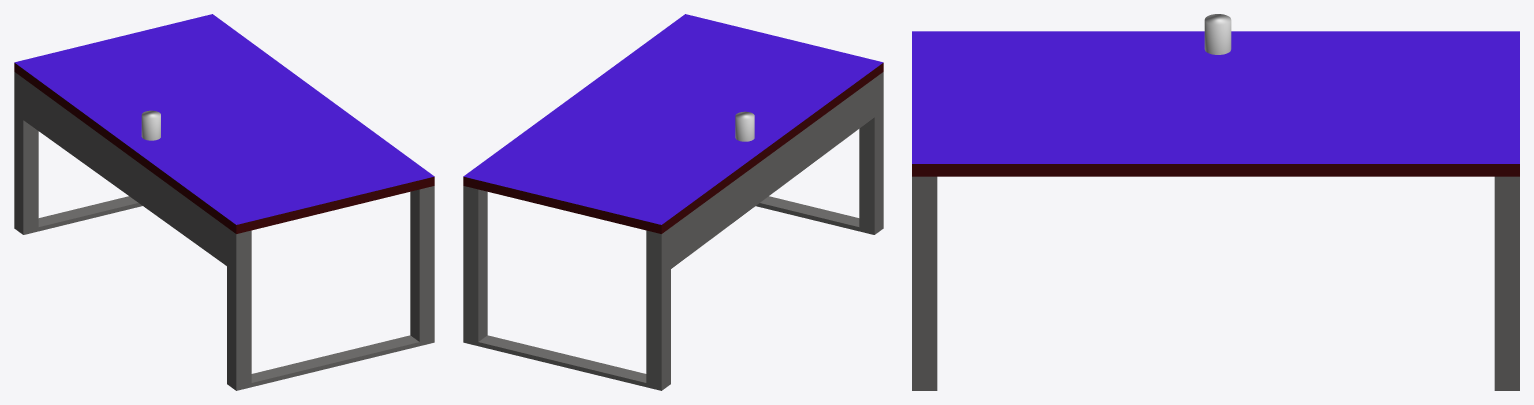
File: Mesa 1.fbx
3 views of the same model, side by side, from view 1: azimuth 30°, elevation 25°; view 2: azimuth 150°, elevation 25°; view 3: azimuth 270°, elevation 25° (orthographic). The views are drawn at different scales.
Parts seen in each view (by area): view 1: Cube, Cylinder; view 2: Cube, Cylinder; view 3: Cube, Cylinder.
Boxes of the visible parts, x1,y1,x2,y2 form: Cube: (14, 14, 434, 390); Cylinder: (141, 110, 160, 140); Cube: (463, 14, 883, 390); Cylinder: (735, 111, 754, 141); Cube: (912, 31, 1519, 390); Cylinder: (1204, 14, 1231, 54).
Size of the model in its own units: 950 by 859 by 1842.
